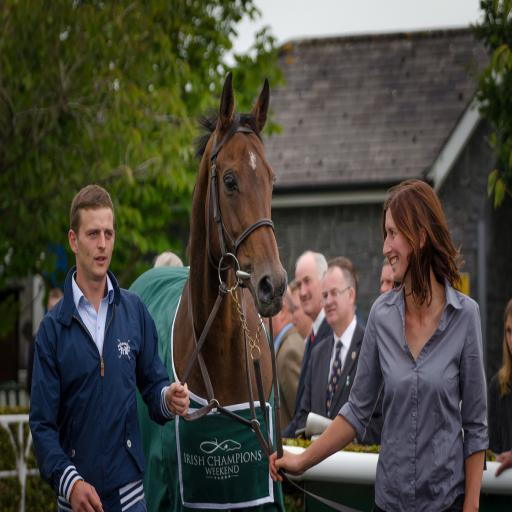horse: (126, 70, 288, 510)
